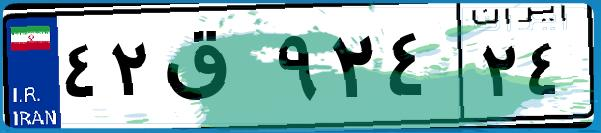2: (330, 28, 385, 110), (475, 38, 525, 113), (110, 28, 158, 98)
4: (385, 28, 445, 110), (57, 26, 110, 100), (525, 38, 570, 115)
9: (270, 28, 330, 110)
ق: (158, 20, 270, 120)
